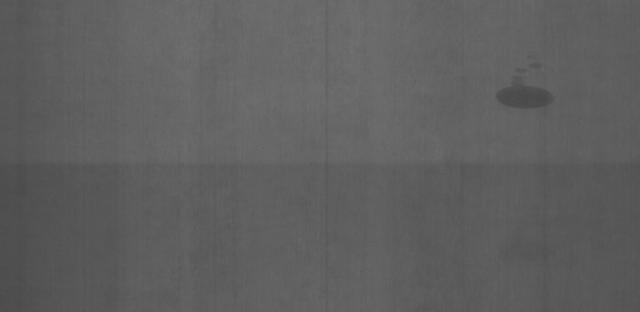oil_spot: (490, 55, 567, 121)
